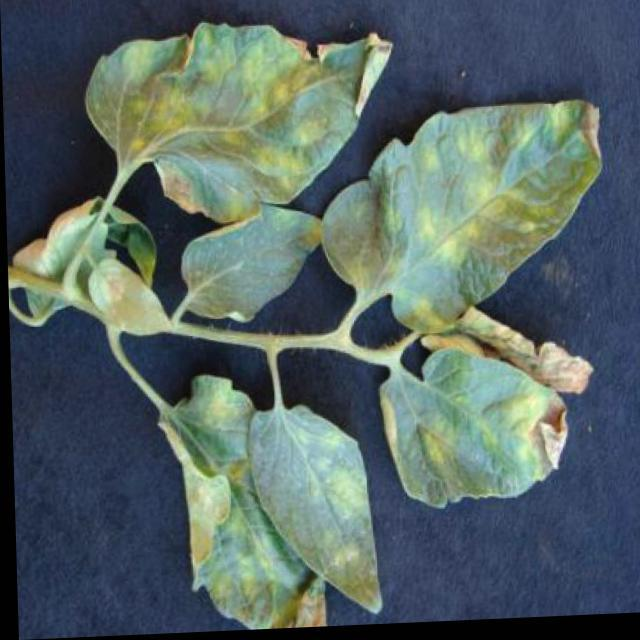Tomato mold leaf: (69, 7, 404, 236), (318, 91, 613, 336), (131, 374, 335, 634), (220, 398, 392, 629), (371, 349, 584, 526), (152, 203, 340, 324), (70, 248, 184, 352)
